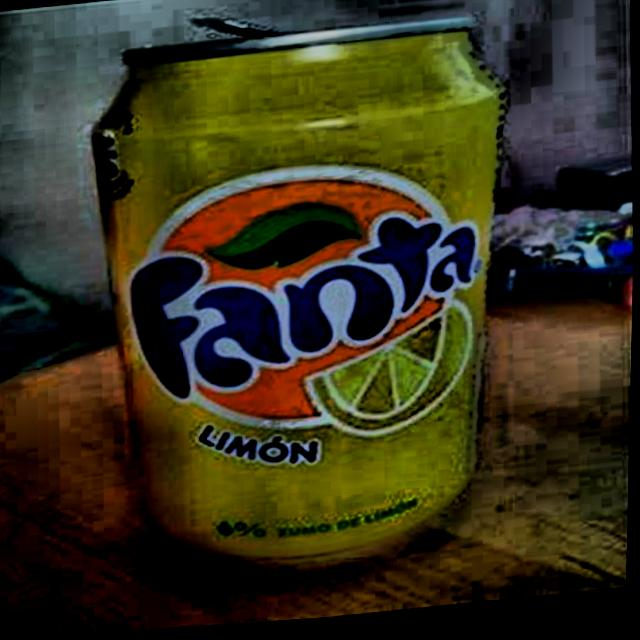Cans: (73, 0, 531, 593)
